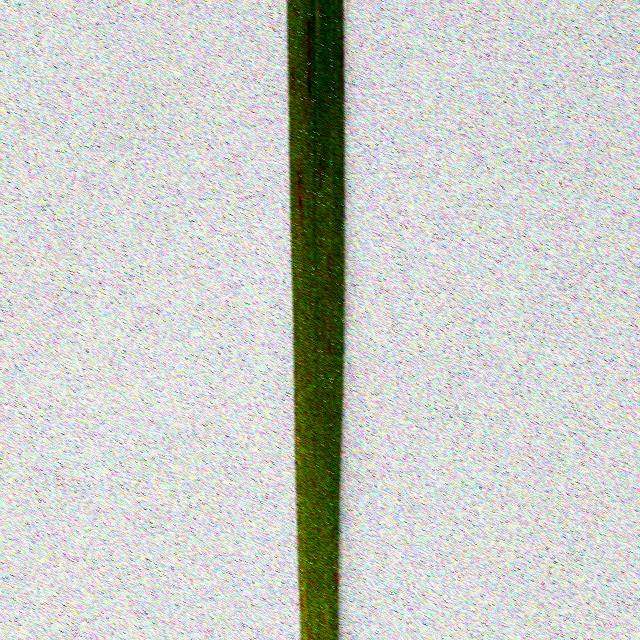NBS: (298, 163, 303, 230), (307, 21, 310, 94), (328, 252, 331, 296), (319, 154, 322, 190), (335, 571, 338, 594), (292, 61, 294, 91)
